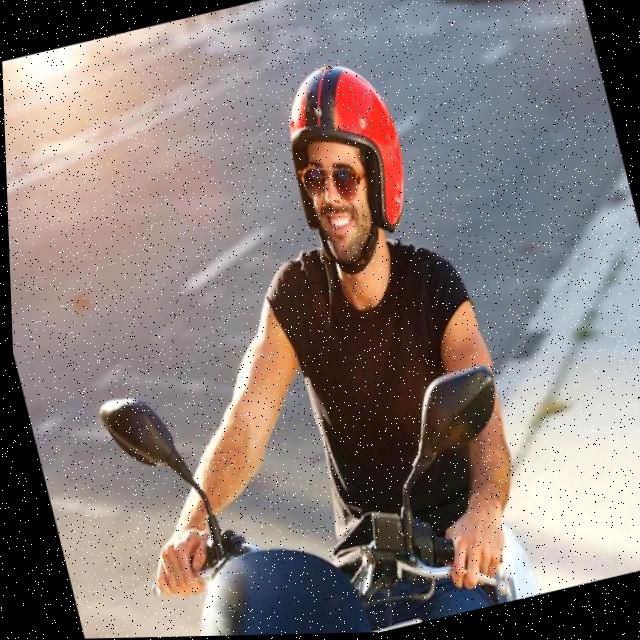helmet: (260, 44, 435, 295)
